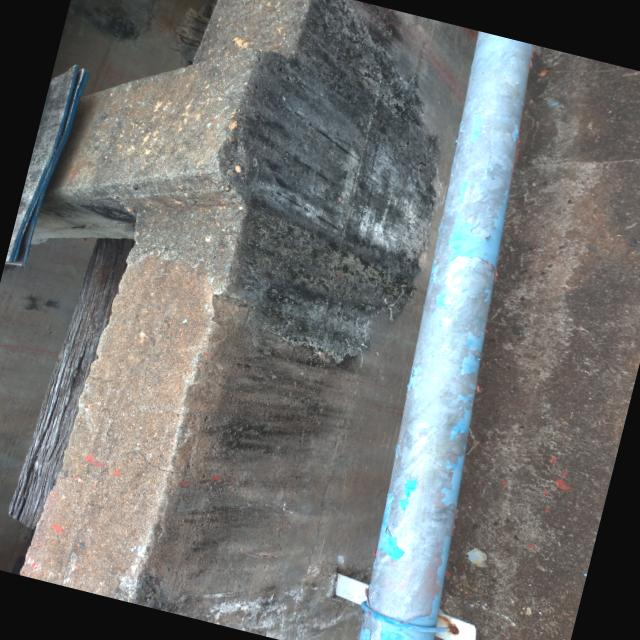gas: (361, 30, 533, 640)
